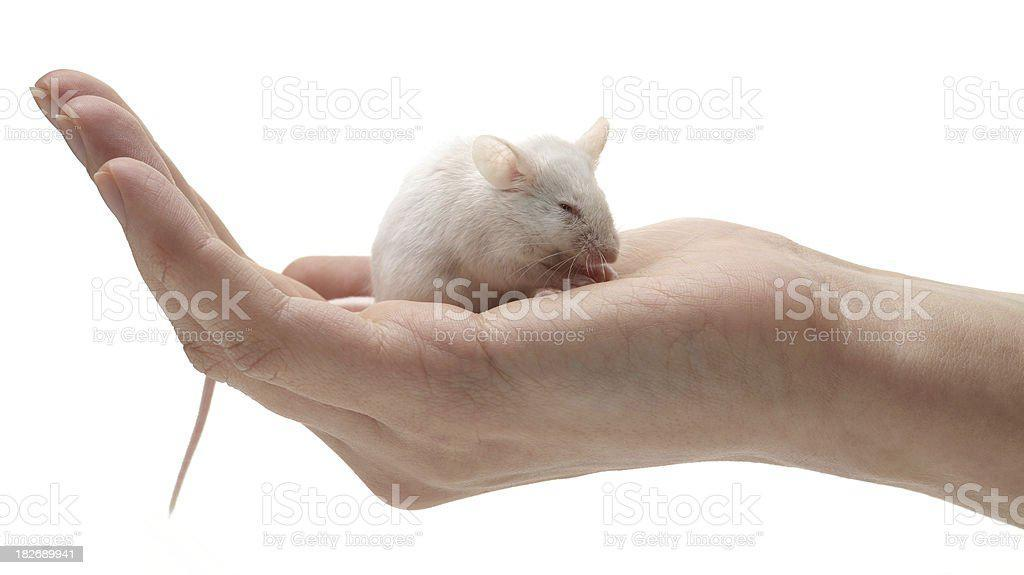rat: (368, 116, 622, 312)
